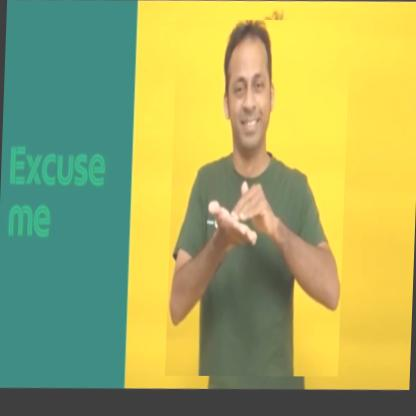ExcuseMe: (165, 16, 350, 383)
